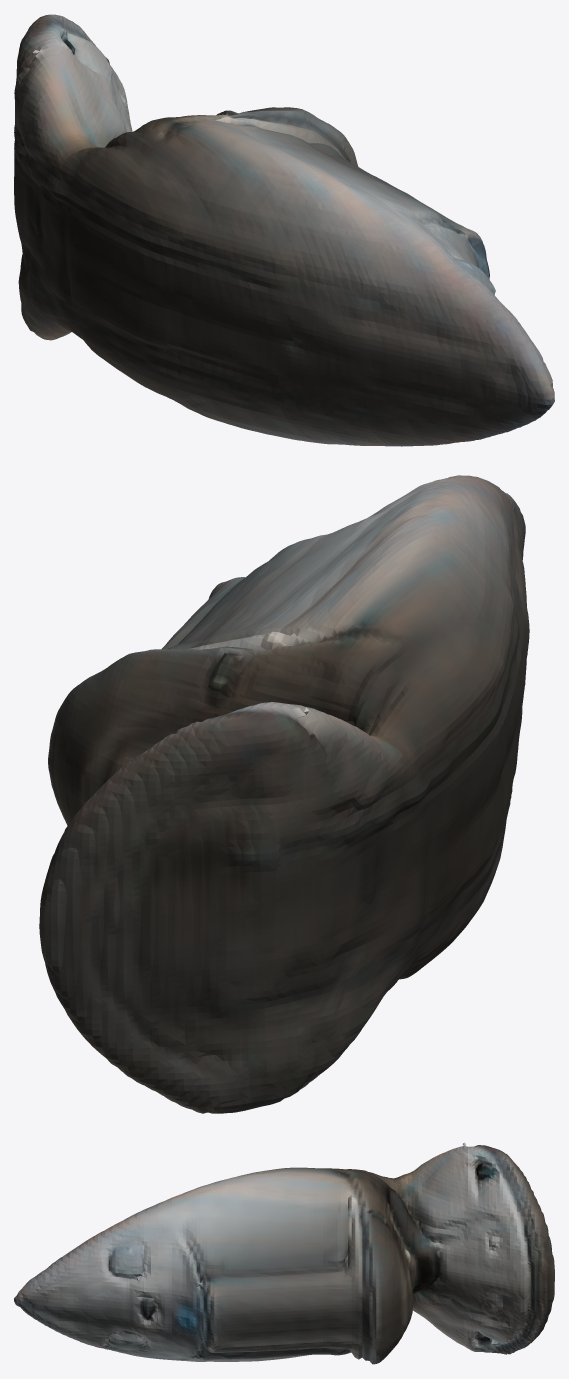
3 views of the same model, one above another, from view 1: azimuth 30°, elevation 25°; view 2: azimuth 150°, elevation 25°; view 3: azimuth 270°, elevation 25° (orthographic). The views are drawn at different scales.
Bounding box in the file's own units: 0.4476 × 0.4299 × 1.05.
